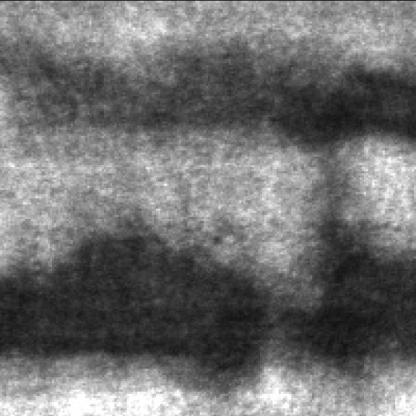patches: (0, 233, 264, 376), (25, 44, 410, 141), (276, 218, 412, 378)
